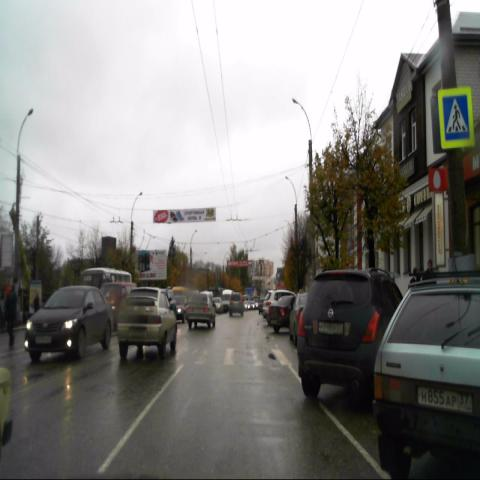5_19_1: (437, 85, 475, 150)
